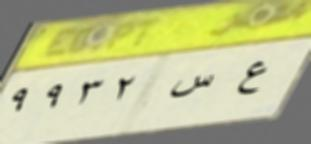2: (115, 74, 137, 104)
3: (73, 76, 105, 112)
9: (9, 84, 32, 118), (42, 80, 64, 110)
ain: (230, 58, 269, 100)
seen: (165, 71, 217, 103)
